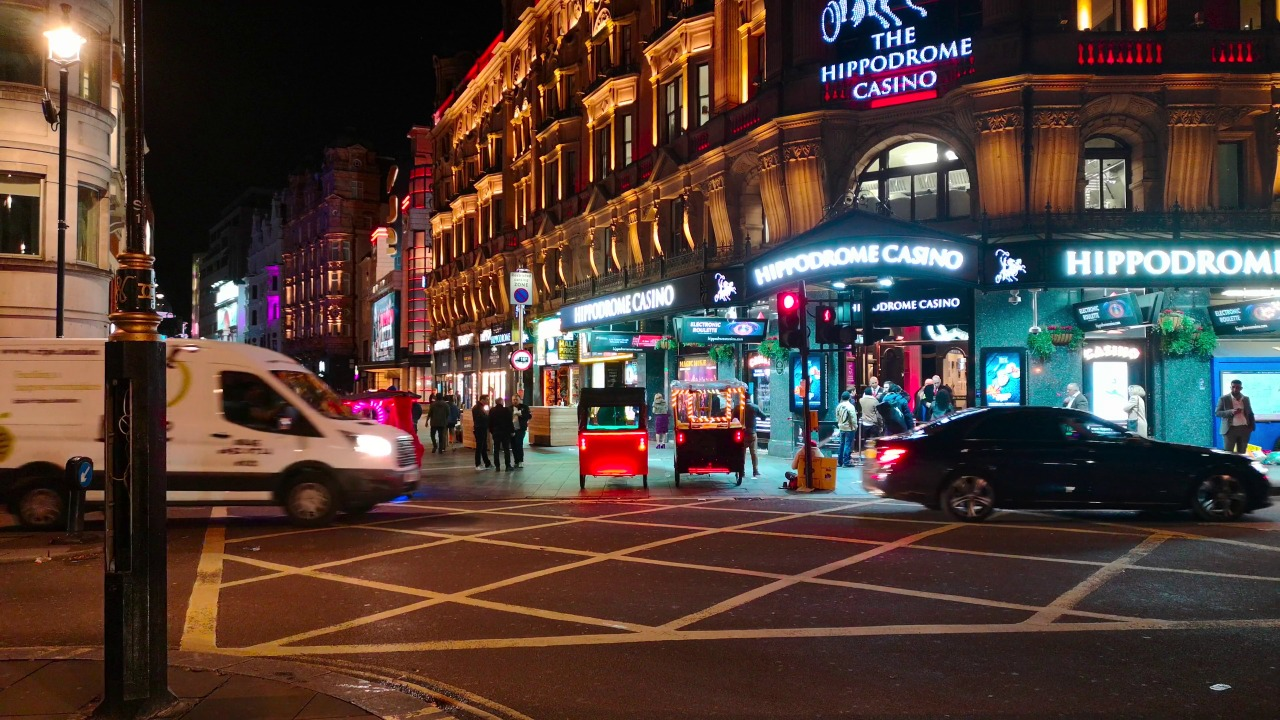car: (1, 331, 406, 523), (873, 406, 1276, 522), (579, 385, 649, 494), (678, 391, 732, 487), (357, 394, 415, 409)
person: (1199, 379, 1260, 441), (751, 404, 777, 482), (1056, 374, 1102, 416), (794, 439, 831, 488), (834, 392, 855, 465), (489, 393, 505, 472), (1116, 381, 1144, 422), (515, 390, 530, 464), (428, 393, 444, 449), (474, 396, 485, 472), (876, 380, 901, 403), (657, 395, 668, 447), (934, 390, 960, 404), (863, 386, 870, 416), (924, 376, 936, 384)
